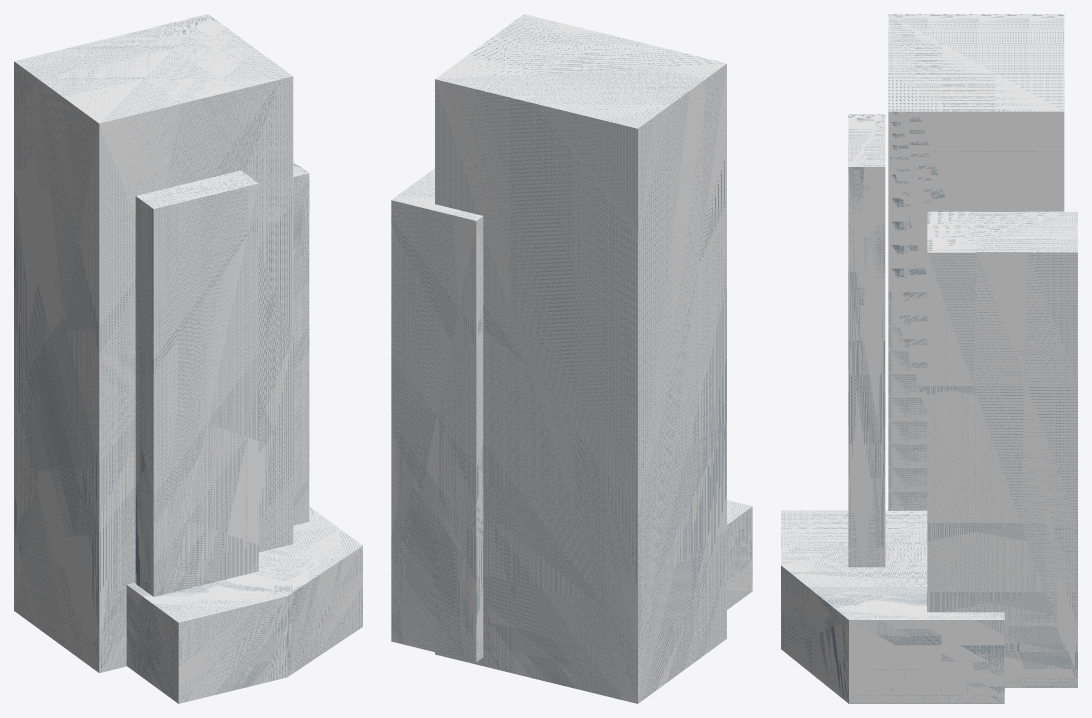
The model's file is 424 Carroll.fbx.
3 renders of one model, left to right at view 1: azimuth 30°, elevation 25°; view 2: azimuth 150°, elevation 25°; view 3: azimuth 270°, elevation 25°, orthographic. The views are drawn at different scales.
Parts seen in each view (by area): view 1: Model; view 2: Model; view 3: Model.
Boxes of the visible parts, x1,y1,x2,y2 form: Model: (14, 14, 362, 703); Model: (391, 14, 752, 703); Model: (781, 14, 1077, 703).
Size of the model in its own units: 3.94 by 8.46 by 4.01.
